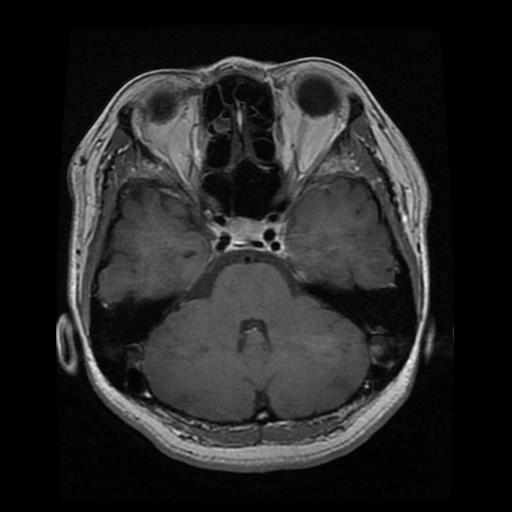Tumour-Pituitary: (208, 214, 289, 257)
